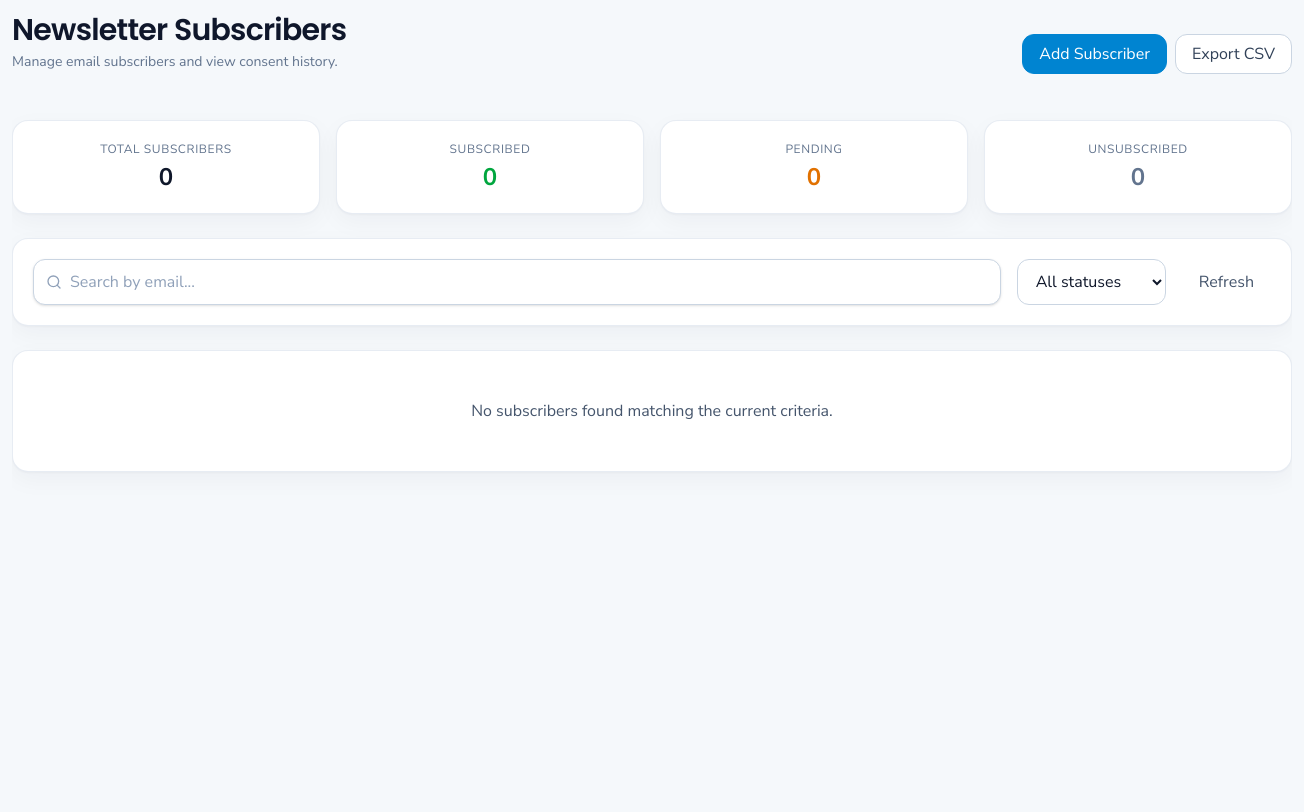
it: subscriber CSV export › downloads a CSV blob using the sanitized server filename
Click the button "Export CSV" at (1233, 54), box [1175,34,1292,74]
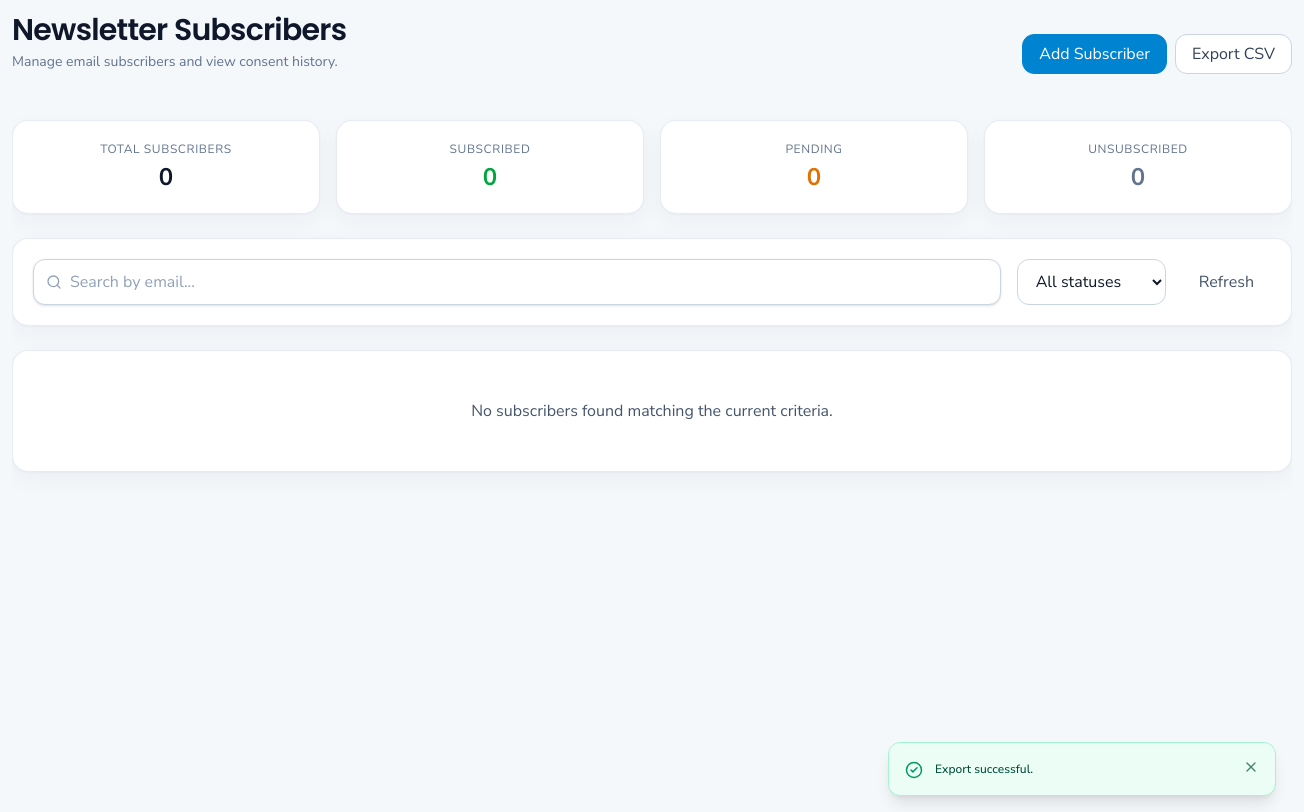
Now the text "Export successful." is shown, box [935,761,1033,777]
